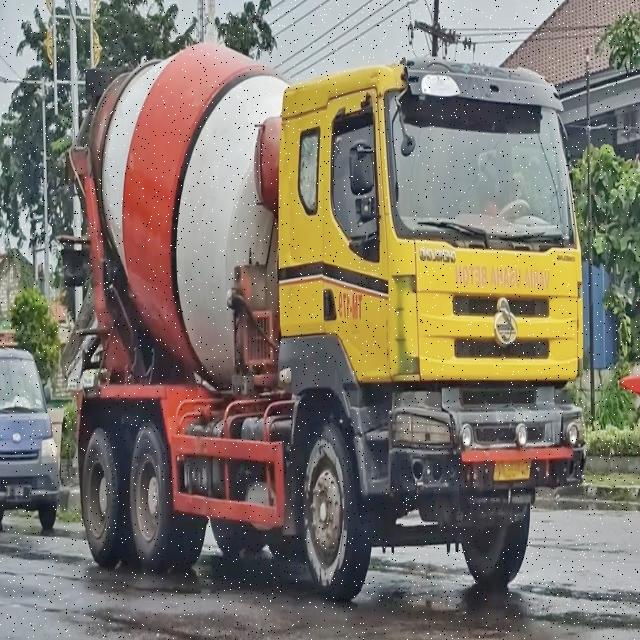truck: (69, 36, 589, 606)
